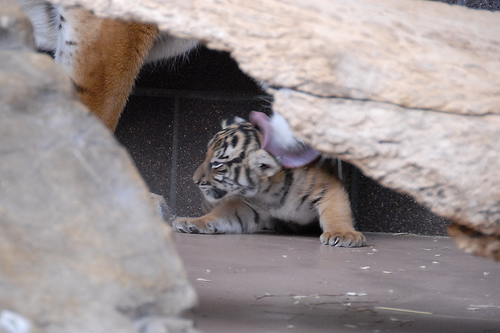Tigre: (198, 118, 360, 272)
